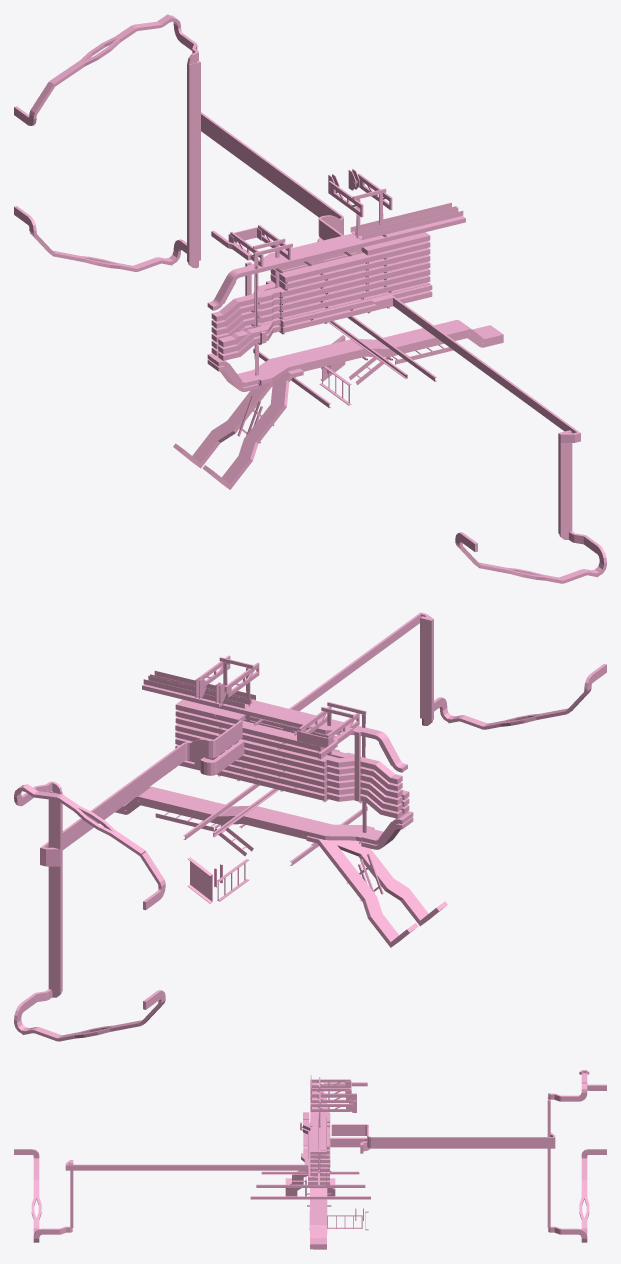
File: Serv-Z0-Sec1-cut4.glb
3 views of the same model, one above another, from view 1: azimuth 30°, elevation 25°; view 2: azimuth 150°, elevation 25°; view 3: azimuth 270°, elevation 25° (orthographic). The views are drawn at different scales.
Visible parts, largest first — view 1: Serv-Z0-Sec1-Cables-cut4, Serv-Z0-Sec1-Trays-cut4; view 2: Serv-Z0-Sec1-Cables-cut4, Serv-Z0-Sec1-Trays-cut4; view 3: Serv-Z0-Sec1-Cables-cut4, Serv-Z0-Sec1-Trays-cut4.
Part boxes in pixels (<box>): Serv-Z0-Sec1-Cables-cut4: <box>14,14,606,583</box>; Serv-Z0-Sec1-Trays-cut4: <box>228,169,463,443</box>; Serv-Z0-Sec1-Cables-cut4: <box>14,612,606,1041</box>; Serv-Z0-Sec1-Trays-cut4: <box>143,655,383,903</box>; Serv-Z0-Sec1-Cables-cut4: <box>14,1070,606,1249</box>; Serv-Z0-Sec1-Trays-cut4: <box>250,1075,370,1230</box>.
Bounding box in the file's own units: 8.05 × 6.49 × 20.65.
